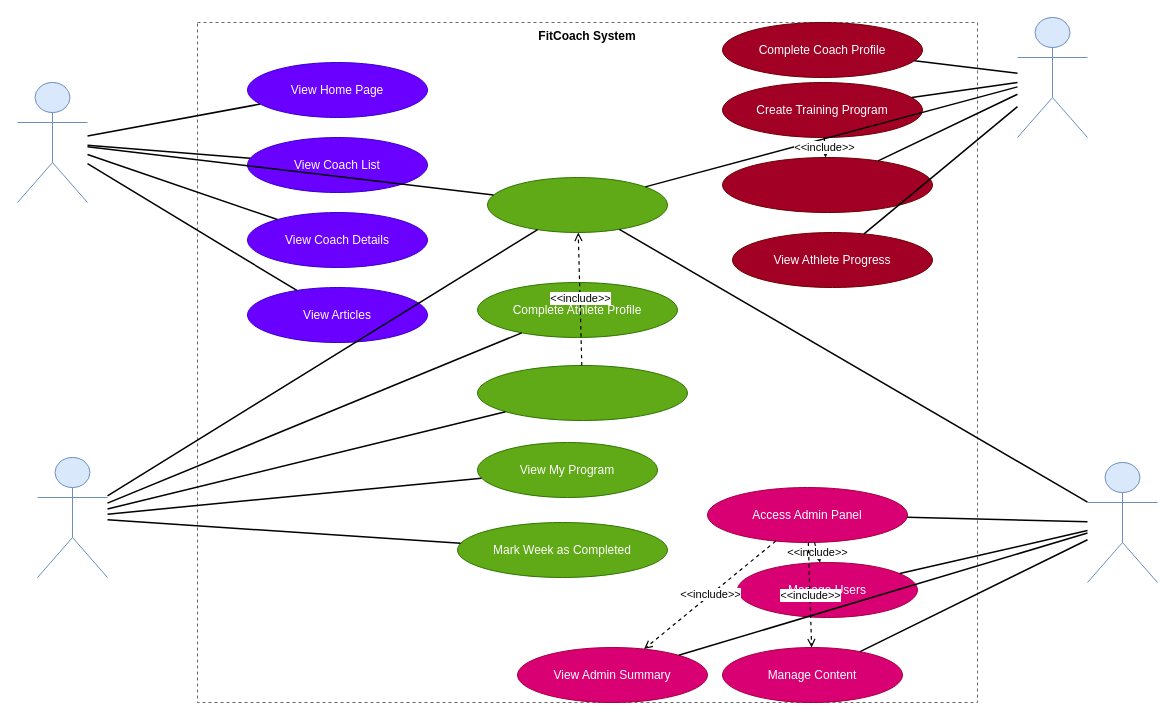
This 1175x720 diagram has some shape labels left out. Each missing label, with the centre of its shape:
Add Exercises to Program: (x=827, y=184)
Admin: (x=1122, y=522)
Athlete: (x=72, y=517)
Coach: (x=1052, y=77)
Guest: (x=52, y=142)
Register / Login: (x=577, y=204)
Request Program from Coach: (x=582, y=392)
